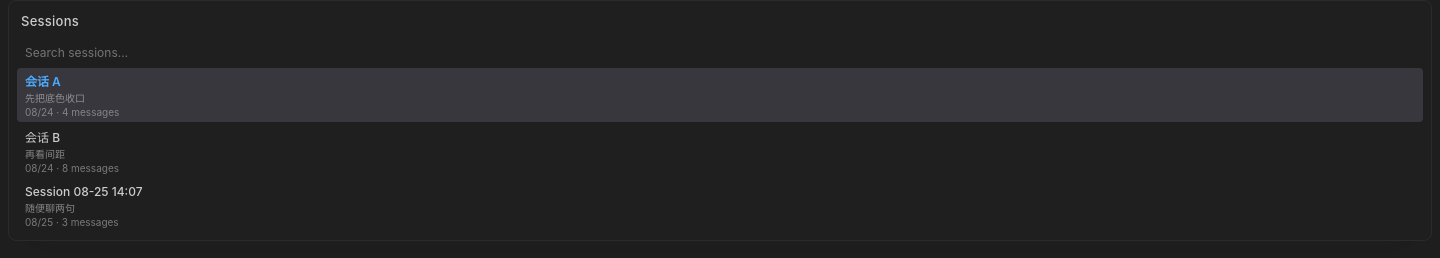
Test: SessionsPopup — the search area › matches the title it shows, date label included
Expected: the text with class "session-item-title" shows "08-25", [25,184,143,199]
In the field with id "sessions-search": (720, 52) [17,41,1423,64], type "08-25"
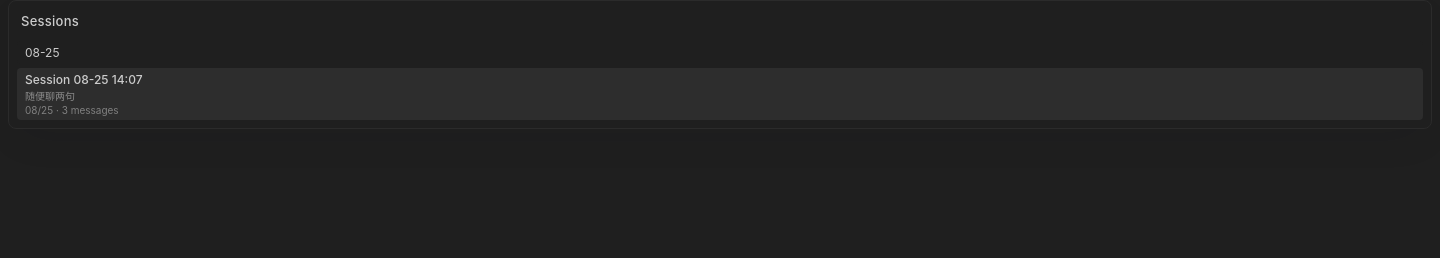
Expected: the button with class "session-item" shows "随便聊两句", [17,68,1423,120]
Now the number of buttons with class "session-item" is 1, box [17,68,1423,120]
